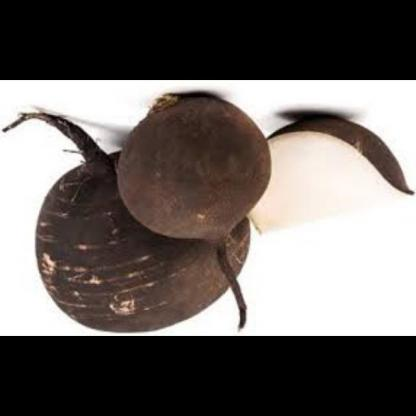redka: (31, 146, 282, 337), (113, 94, 273, 247), (251, 111, 414, 238)
